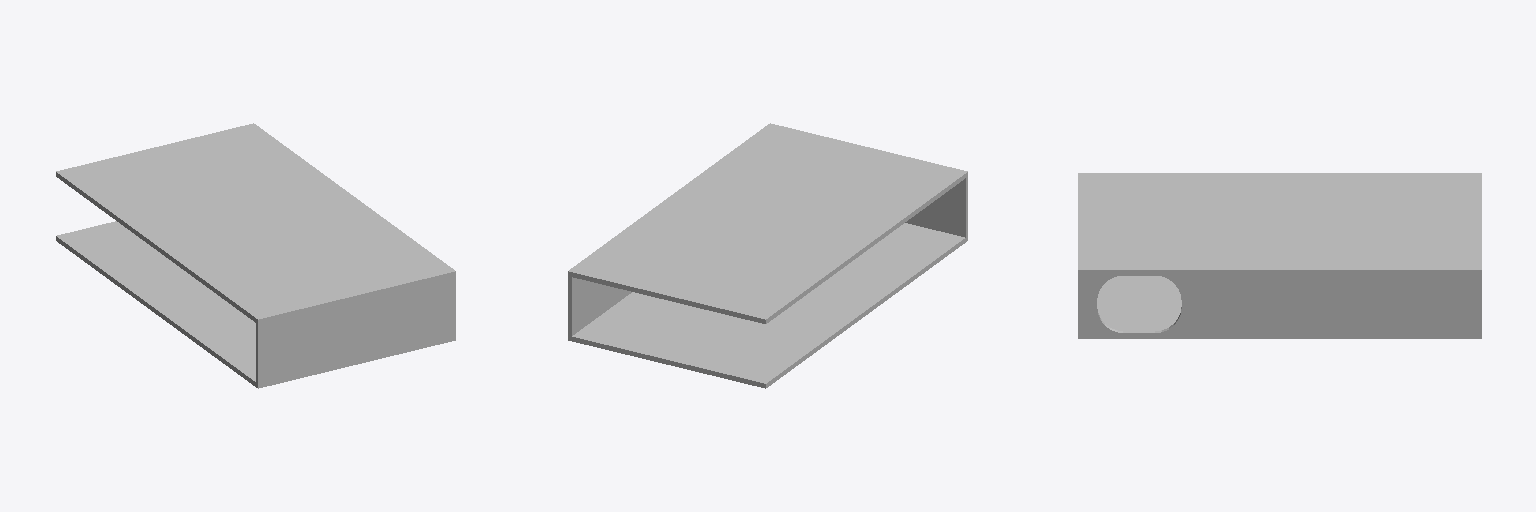
File: outer-box.obj
3 views of the same model, side by side, from view 1: azimuth 30°, elevation 25°; view 2: azimuth 150°, elevation 25°; view 3: azimuth 270°, elevation 25° (orthographic).
Visible parts, largest first — view 1: outer-box-fusion-2; view 2: outer-box-fusion-2; view 3: outer-box-fusion-2.
Part boxes in pixels (x1,y1,x2,y2): outer-box-fusion-2: (56, 123, 455, 388); outer-box-fusion-2: (568, 123, 967, 388); outer-box-fusion-2: (1078, 173, 1481, 338).
Size of the model in its own units: 2.5 by 0.8333 by 4.42.